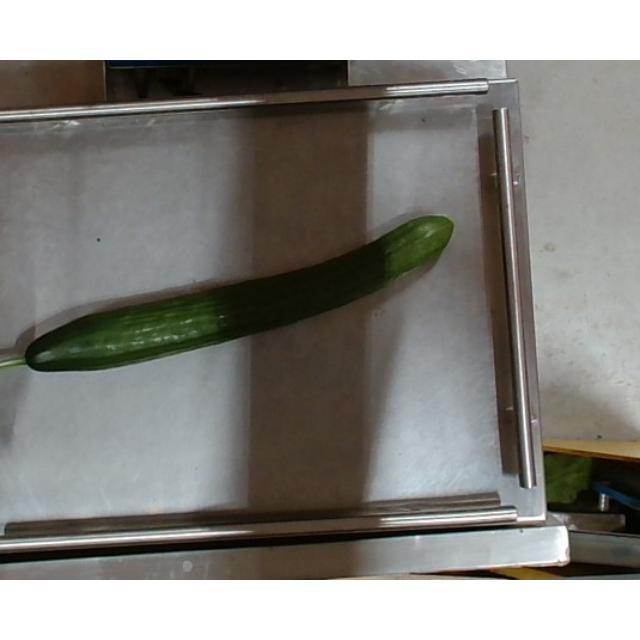cucumber: (1, 214, 453, 380)
